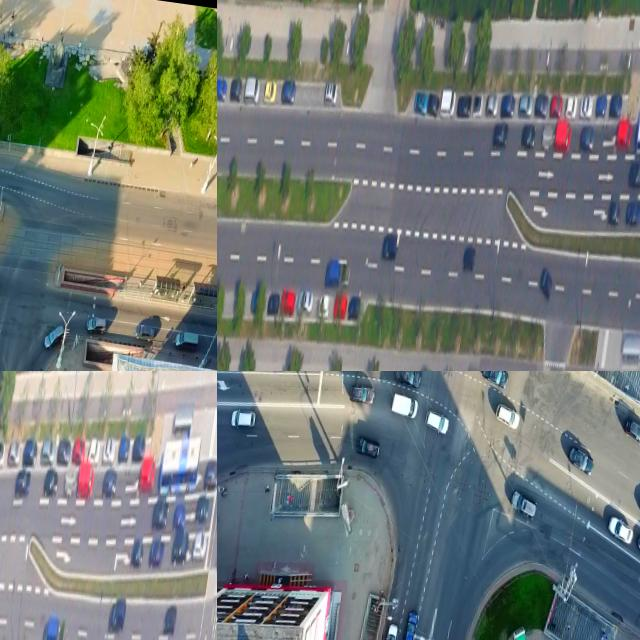UAI: (510, 489, 540, 520), (567, 448, 596, 477), (606, 517, 635, 545), (171, 528, 191, 567), (495, 403, 521, 431), (108, 598, 128, 634), (138, 457, 157, 494), (43, 322, 66, 352), (425, 409, 451, 435), (555, 120, 574, 154), (77, 464, 96, 498), (14, 468, 33, 501), (151, 499, 170, 531), (230, 408, 256, 431), (192, 528, 209, 563), (349, 384, 376, 406), (616, 119, 634, 151), (244, 74, 262, 106), (148, 537, 166, 569), (356, 436, 381, 459), (538, 267, 555, 300), (102, 467, 119, 499), (22, 436, 39, 468), (133, 323, 157, 345), (402, 609, 419, 640), (43, 469, 61, 498), (622, 417, 640, 446), (579, 124, 596, 154), (441, 87, 458, 117), (479, 371, 509, 388), (72, 435, 88, 466), (493, 121, 510, 150), (88, 435, 103, 466), (163, 604, 178, 635), (382, 234, 399, 261), (325, 260, 342, 287), (131, 540, 146, 570), (195, 497, 211, 525), (41, 437, 57, 465), (297, 289, 314, 315), (85, 316, 108, 335), (625, 199, 640, 228), (118, 434, 132, 465), (173, 502, 187, 532), (57, 438, 72, 466), (132, 434, 147, 462), (395, 371, 423, 386), (627, 159, 640, 191), (521, 122, 537, 148), (282, 78, 298, 104), (457, 93, 473, 119), (501, 92, 517, 118), (204, 456, 217, 488), (42, 617, 60, 640), (580, 93, 595, 120), (102, 437, 117, 464), (281, 291, 297, 315), (414, 91, 430, 115), (518, 94, 534, 118), (318, 292, 332, 319), (607, 201, 622, 226), (535, 93, 550, 118), (334, 293, 349, 317), (324, 81, 339, 105), (609, 94, 624, 118), (596, 92, 609, 119), (64, 470, 77, 497), (348, 295, 362, 320), (267, 291, 281, 316), (230, 77, 244, 102), (486, 93, 500, 118), (550, 93, 564, 118), (462, 247, 476, 272), (8, 441, 22, 466), (264, 79, 278, 103), (542, 125, 555, 150), (566, 95, 579, 120), (428, 92, 441, 116), (381, 622, 398, 640), (217, 78, 228, 102), (473, 94, 484, 117), (341, 265, 352, 287), (58, 623, 70, 640), (0, 440, 7, 469)
car: (159, 430, 204, 497)
harvester: (392, 393, 420, 419), (174, 330, 200, 352)
